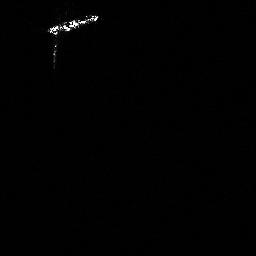ship: (44, 11, 102, 39)
